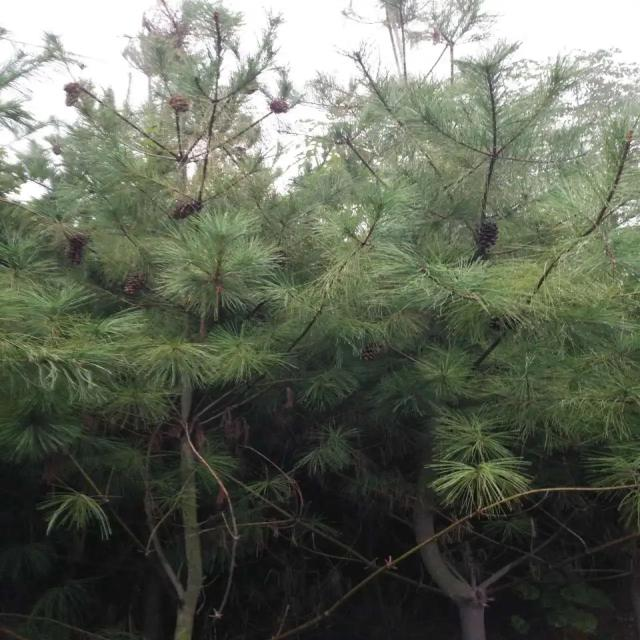huashansong: (9, 18, 312, 635), (335, 1, 606, 621)
